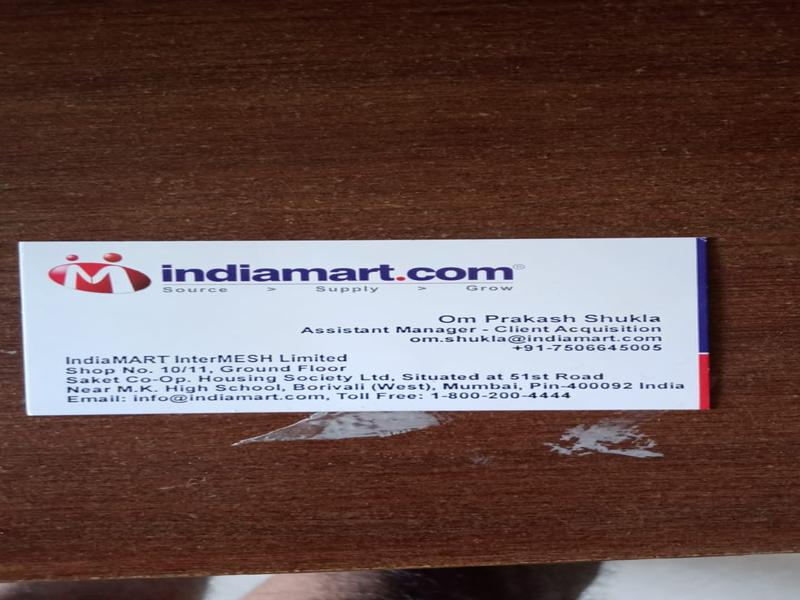card: (16, 241, 711, 420)
